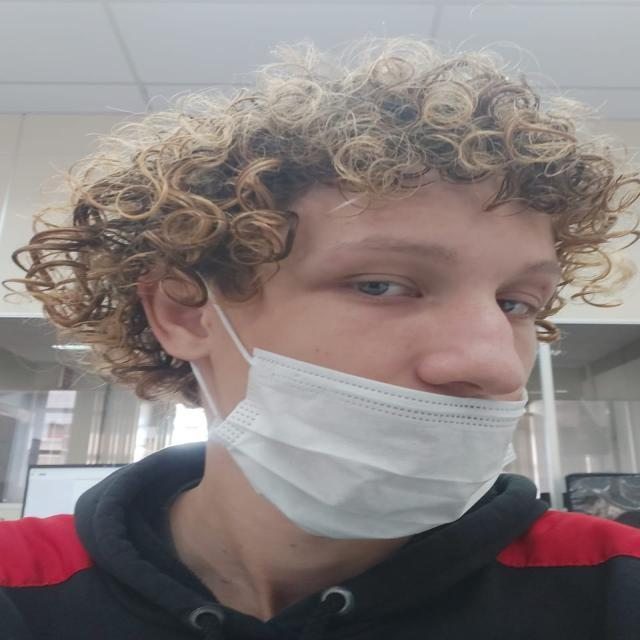hairnet: (256, 190, 552, 532)
